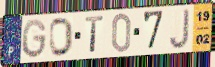0: (110, 12, 133, 54)
7: (142, 10, 164, 53)
G: (21, 17, 49, 60)
J: (169, 7, 191, 51)
O: (48, 16, 74, 58)
T: (84, 15, 105, 55)
